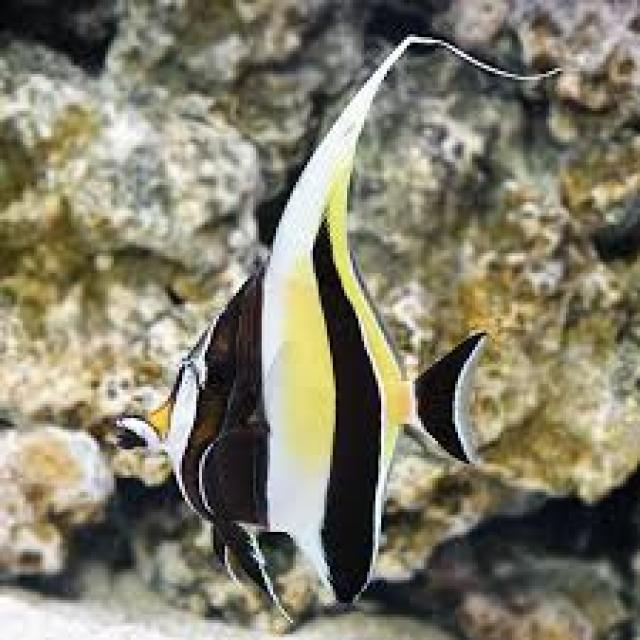MorishIdol: (108, 29, 560, 632)
